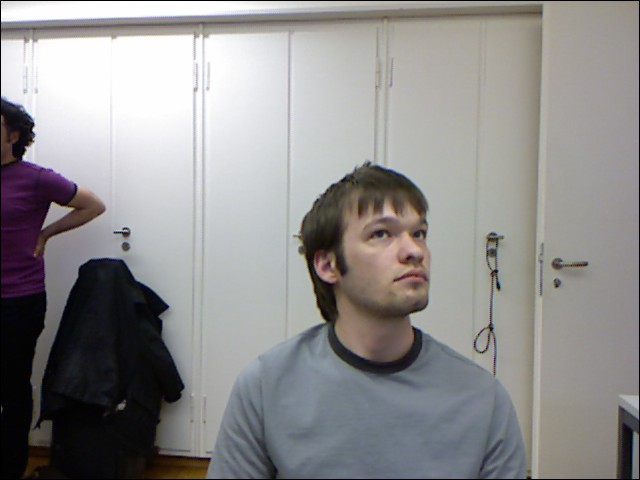deflection: (228, 171, 503, 445)
